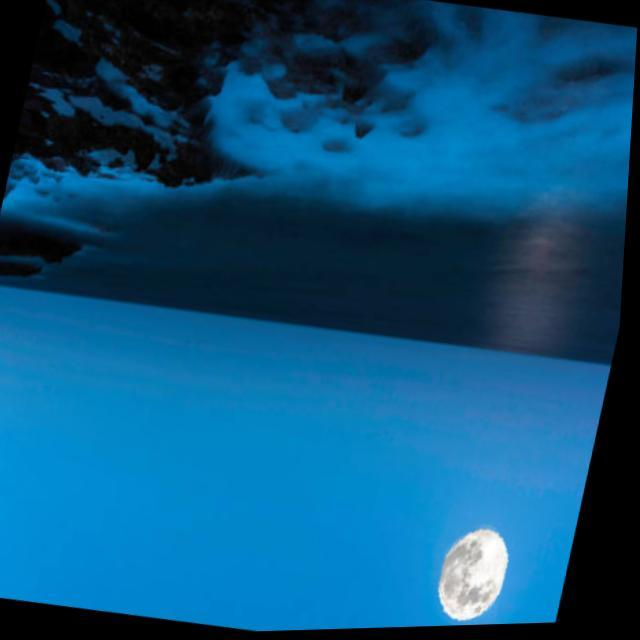moon: (434, 516, 524, 629)
